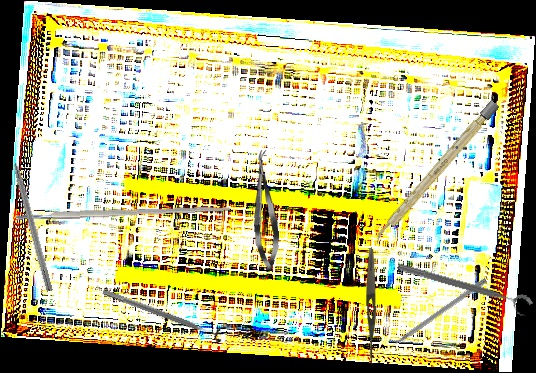Dressing Forceps: (365, 247, 378, 365)
Fixation Ring: (393, 259, 535, 319), (99, 282, 228, 345)
Hook Surgical: (7, 144, 55, 293)
Micro Scissor: (248, 149, 282, 271)
Pusher: (380, 276, 488, 355)
Scalpel Handle: (371, 99, 500, 246), (15, 204, 231, 221)
